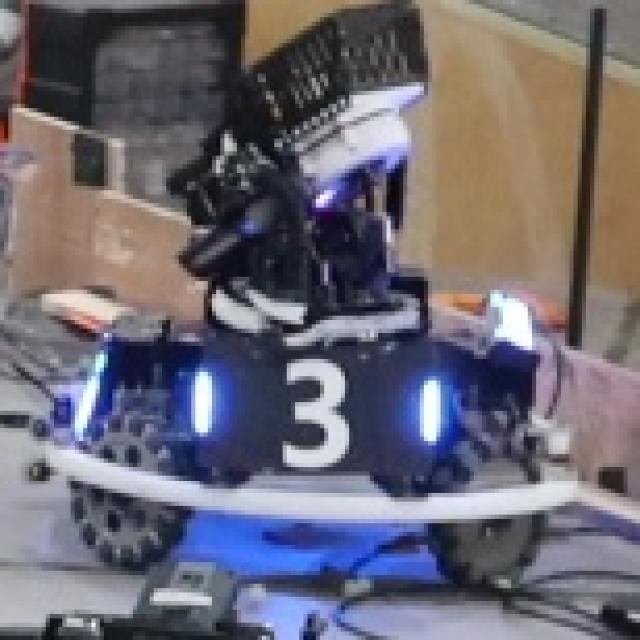B3: (195, 346, 449, 471)
